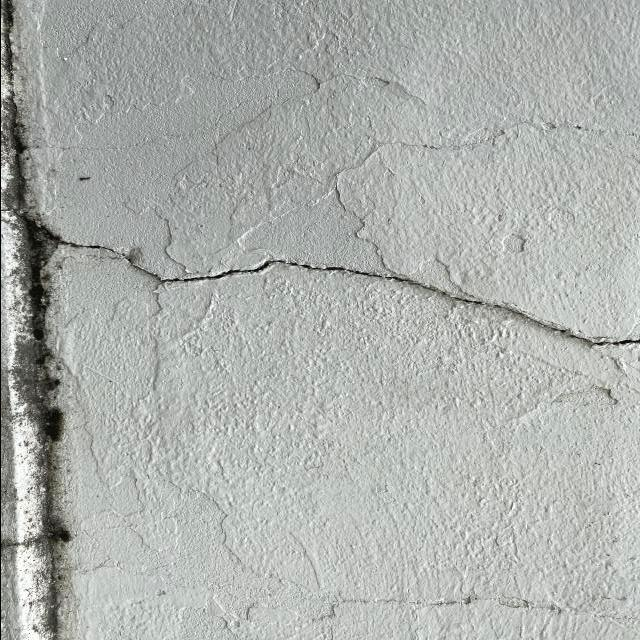SurfaceCrack: (0, 181, 639, 382)
